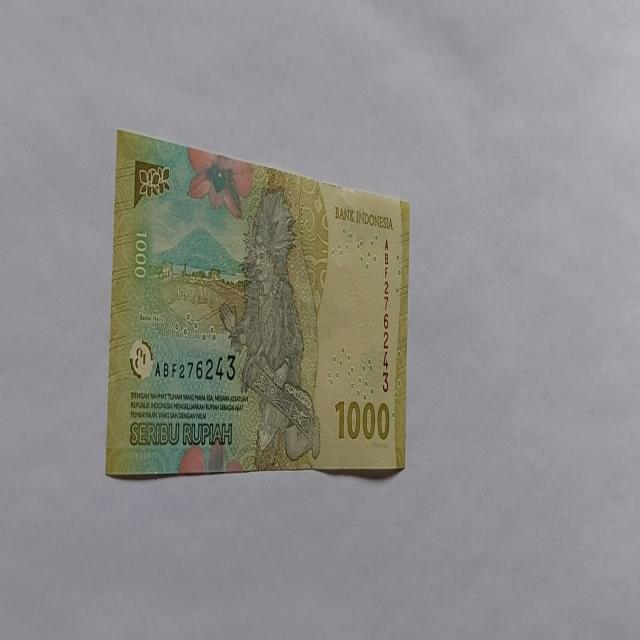seribu rupiah kertas: (104, 127, 410, 478)
